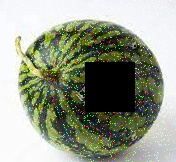watermelon: (12, 20, 163, 159)
